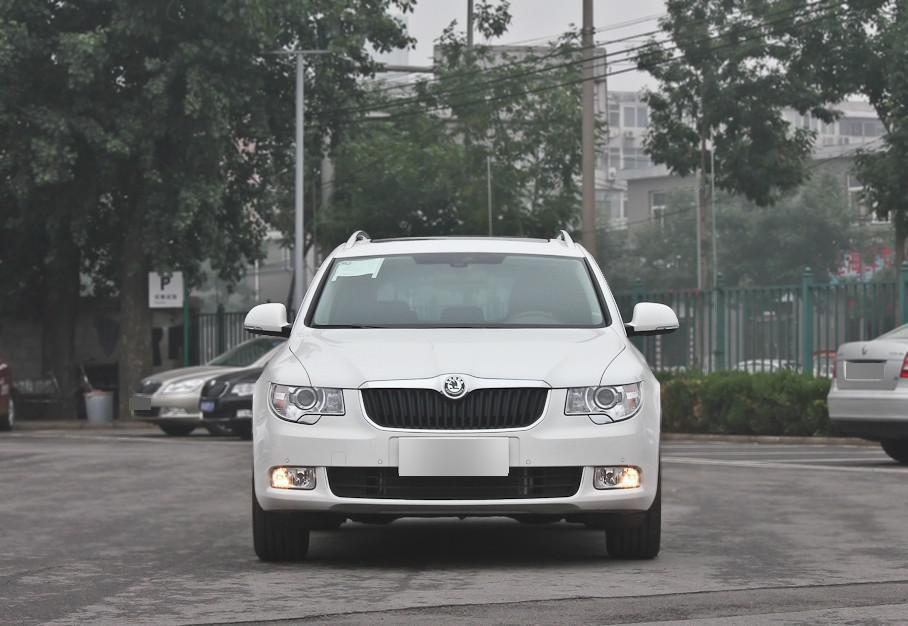Wagon: (245, 228, 681, 561)
